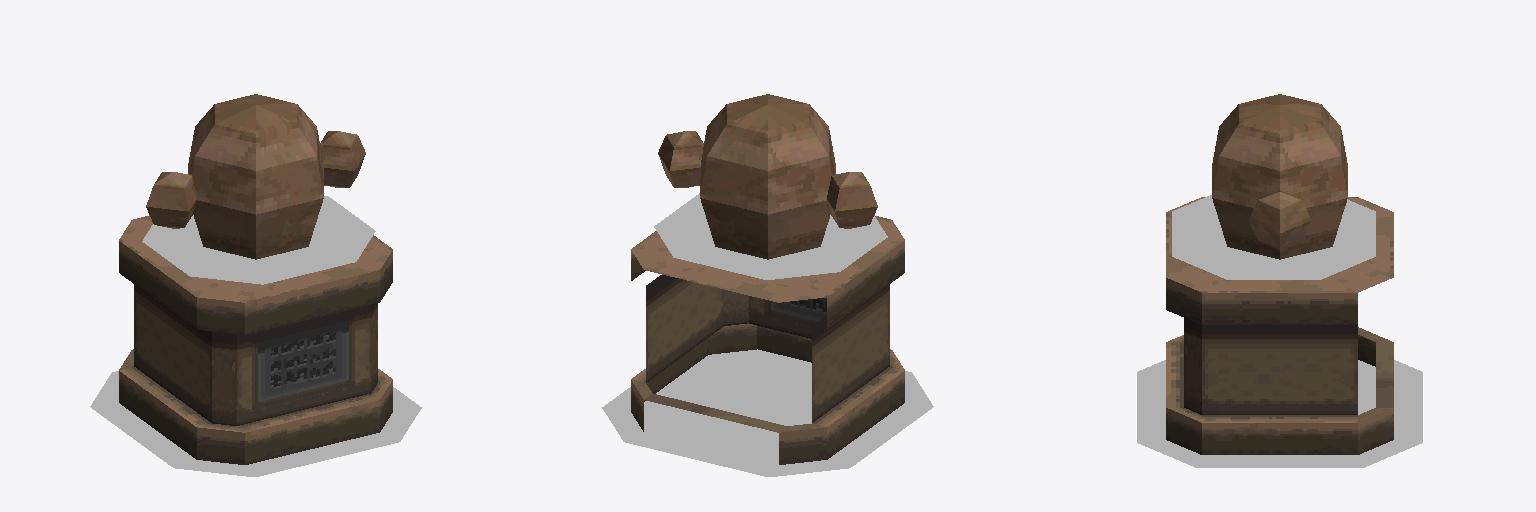
The picture shows the model from 3 angles: view 1: azimuth 30°, elevation 25°; view 2: azimuth 150°, elevation 25°; view 3: azimuth 270°, elevation 25°; orthographic projection.
Parts seen in each view (by area): view 1: polygon2, polygon1, polygon0, polygon3; view 2: polygon2, polygon0, polygon1, polygon3; view 3: polygon2, polygon1, polygon0.
Boxes of the visible parts, <box> form: polygon2: <box>119,215,392,464</box>; polygon1: <box>146,94,365,259</box>; polygon0: <box>90,196,421,476</box>; polygon3: <box>252,312,354,409</box>; polygon2: <box>631,215,904,464</box>; polygon0: <box>602,193,933,476</box>; polygon1: <box>658,94,877,259</box>; polygon3: <box>764,297,826,326</box>; polygon2: <box>1166,197,1393,454</box>; polygon1: <box>1212,94,1347,259</box>; polygon0: <box>1137,195,1422,467</box>.
Bounding box in the file's own units: 6 × 6.99 × 6.
4 materials, 3 textured.